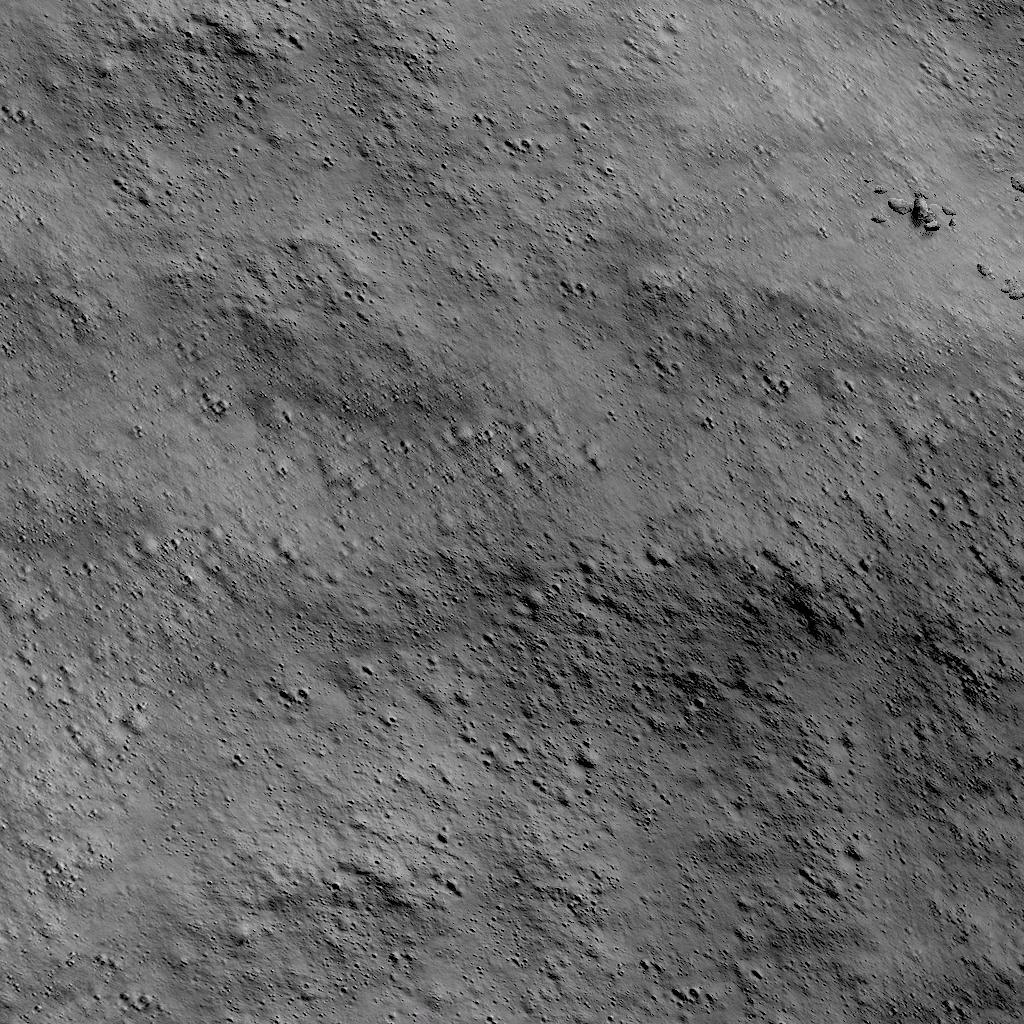Plan surface: (7, 336, 1024, 1024), (0, 8, 766, 298), (797, 0, 1024, 183)
